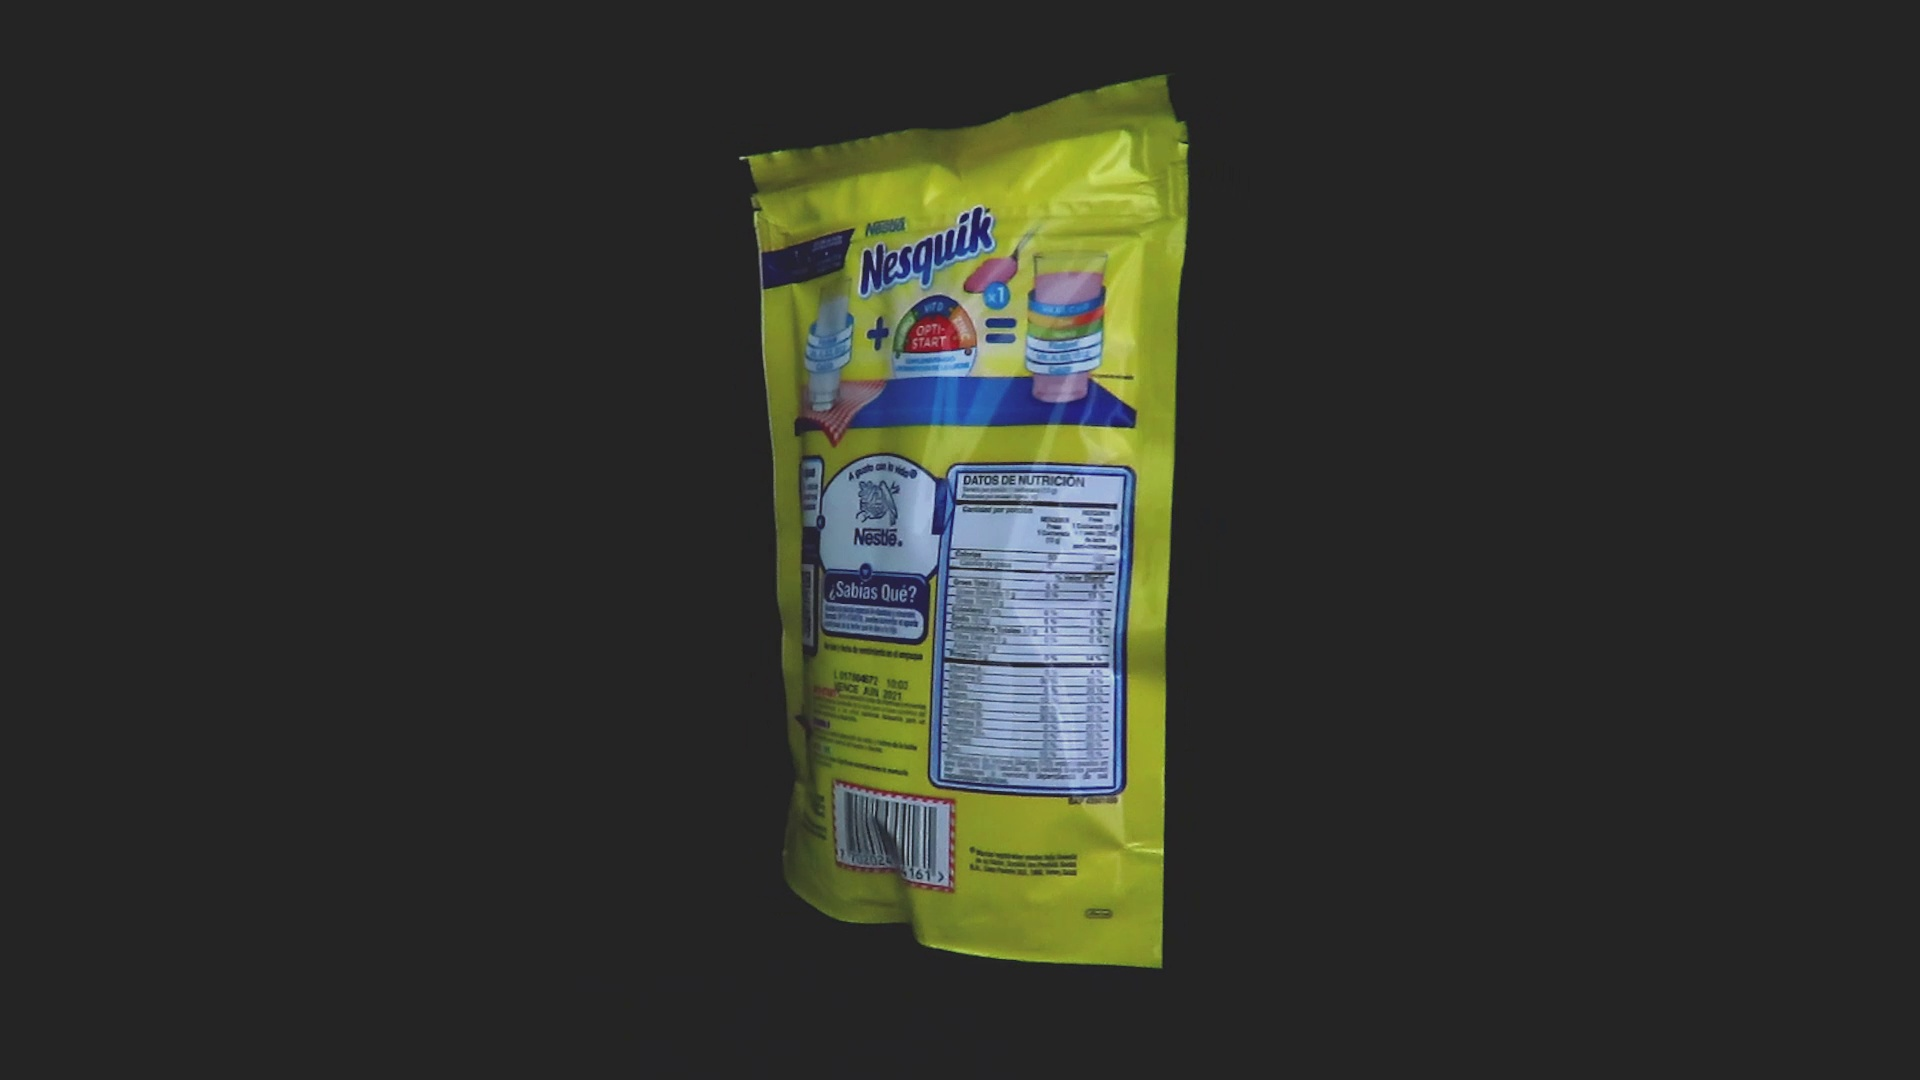COL0170305DYP20000: (735, 67, 1195, 975)
